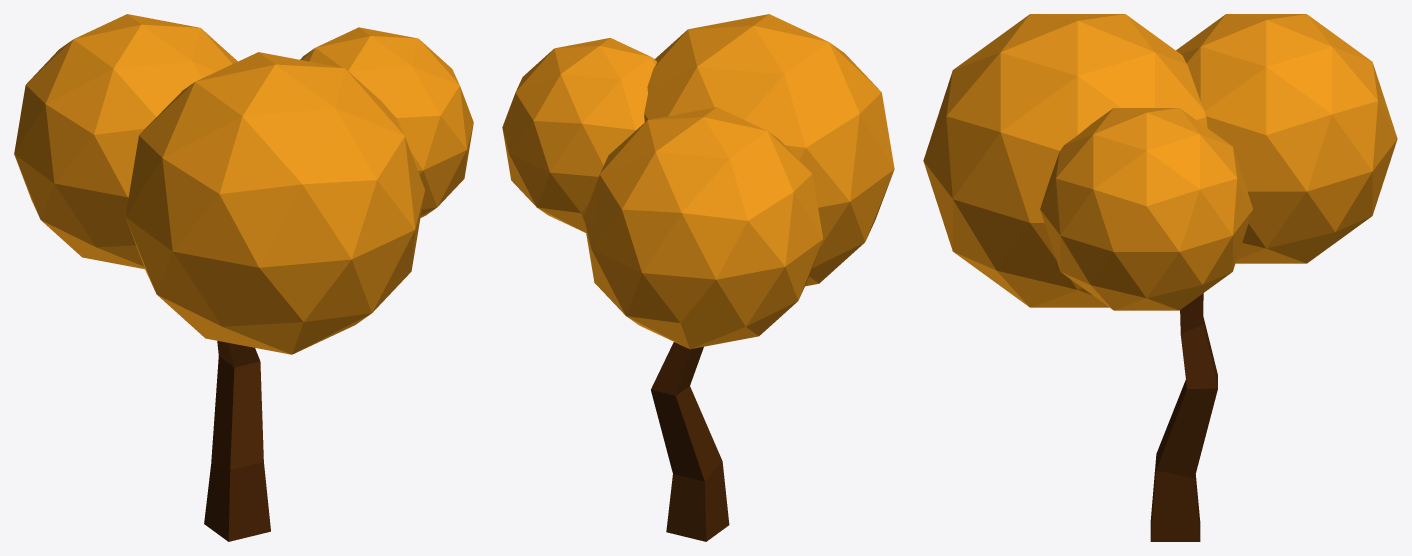
Rendered from tree1.glb.
The picture shows the model from 3 angles, left to right: view 1: azimuth 30°, elevation 25°; view 2: azimuth 150°, elevation 25°; view 3: azimuth 270°, elevation 25°; orthographic projection. The views are drawn at different scales.
Parts seen in each view (by area): view 1: Icosphere.001, Icosphere.002, Icosphere, Cube; view 2: Icosphere.002, Icosphere.001, Icosphere, Cube; view 3: Icosphere.001, Icosphere.002, Icosphere, Cube.
Part boxes in pixels (left/top/right/bottom): Icosphere.001: left=125, top=52, right=424, bottom=354; Icosphere.002: left=14, top=14, right=237, bottom=269; Icosphere: left=300, top=27, right=473, bottom=217; Cube: left=204, top=341, right=270, bottom=541; Icosphere.002: left=583, top=107, right=823, bottom=349; Icosphere.001: left=644, top=14, right=894, bottom=286; Icosphere: left=502, top=38, right=657, bottom=232; Cube: left=651, top=342, right=729, bottom=541; Icosphere.001: left=923, top=14, right=1207, bottom=307; Icosphere.002: left=1176, top=14, right=1397, bottom=263; Icosphere: left=1040, top=108, right=1252, bottom=310; Cube: left=1150, top=293, right=1217, bottom=541.
Size of the model in its own units: 2.14 by 2.82 by 2.4.
